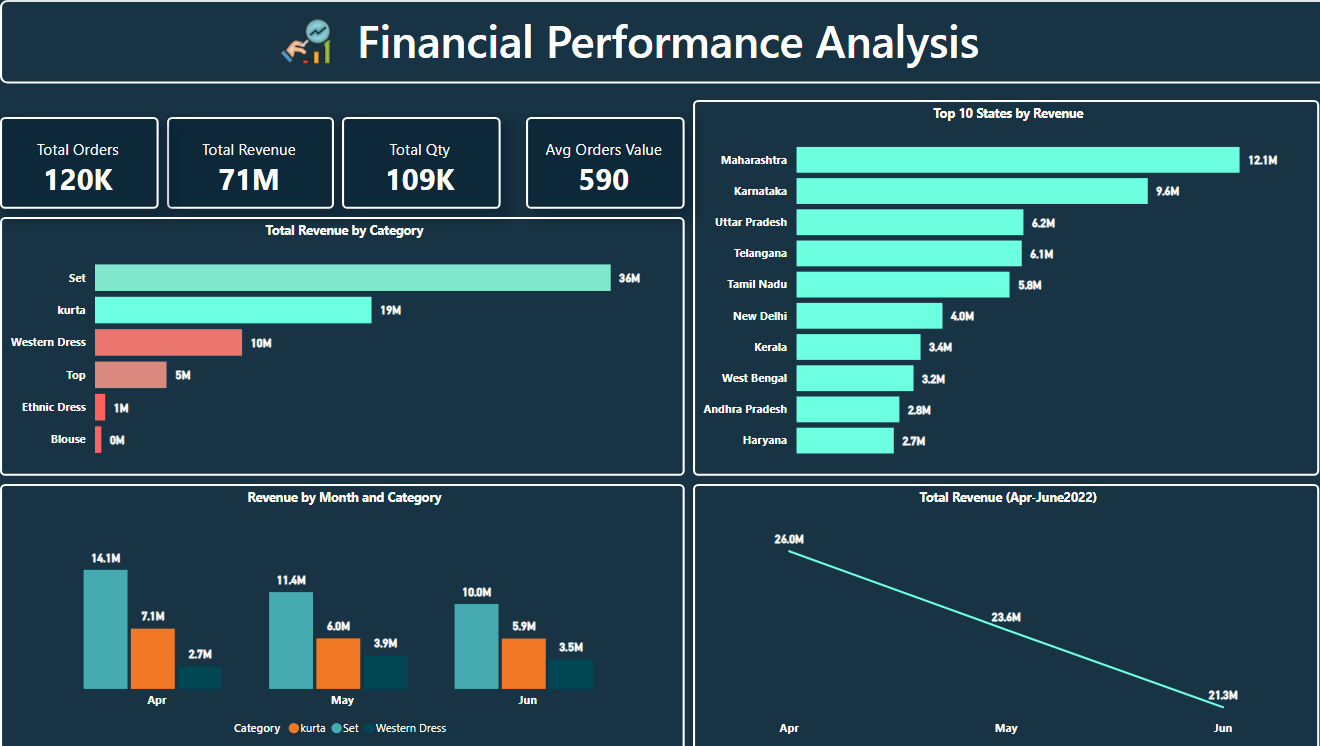

What the dashboard file says about the page in this screenshot:
{"tool":"powerbi","page":{"name":"Financial analysis","canvas":[1280,720],"ordinal":0},"visuals":[{"type":"cardVisual","fields":{"Data":["Table.Total_rev"]},"box":[160,112,160,88],"z":0},{"type":"cardVisual","fields":{"Data":["Table.Total Qty"]},"box":[328,112,152,88],"z":1000},{"type":"cardVisual","fields":{"Data":["Table.Total_orders"]},"box":[0,112,152,88],"z":2000},{"type":"lineChart","title":"Total Revenue (Apr-June2022)","fields":{"Y":["Table.Total_revenue"],"Category":["DateTable.Month Name"]},"box":[664,464,600,256],"z":3000},{"type":"cardVisual","fields":{"Data":["Measure.Avg Orders"]},"box":[504,112,152,88],"z":4000},{"type":"clusteredBarChart","fields":{"Category":["Product.Category"],"Y":["Measure.Total_revenue"]},"box":[0,208,656,248],"z":5000},{"type":"clusteredColumnChart","title":"Revenue by Month and Category","fields":{"Y":["Measure.Total_revenue"],"Category":["DateTable.Month Name"],"Series":["Product.Category"]},"box":[0,464,656,256],"z":6000},{"type":"textbox","box":[0,0,1280,80],"z":7000},{"type":"image","box":[248,8,88,64],"z":8000},{"type":"barChart","title":"Top 10 States by Revenue","fields":{"Category":["Location.ship-state"],"Y":["Sum(Sales fact.Total Revenue)"]},"box":[664,96,600,360],"z":9000}]}

Visuals, with their boxes in screenshot pixels (x1, y1, x2, y2), scaled from the page's 1280x720 canvas onto the 1320x746 screenshot:
cardVisual - Table.Total_rev: box(165, 116, 330, 207)
cardVisual - Table.Total Qty: box(338, 116, 495, 207)
cardVisual - Table.Total_orders: box(0, 116, 157, 207)
"Total Revenue (Apr-June2022)" lineChart: box(685, 481, 1304, 745)
cardVisual - Measure.Avg Orders: box(520, 116, 676, 207)
clusteredBarChart - Product.Category x Measure.Total_revenue: box(0, 216, 676, 472)
"Revenue by Month and Category" clusteredColumnChart: box(0, 481, 676, 745)
textbox: box(0, 0, 1319, 83)
image: box(256, 8, 346, 75)
"Top 10 States by Revenue" barChart: box(685, 99, 1304, 472)
